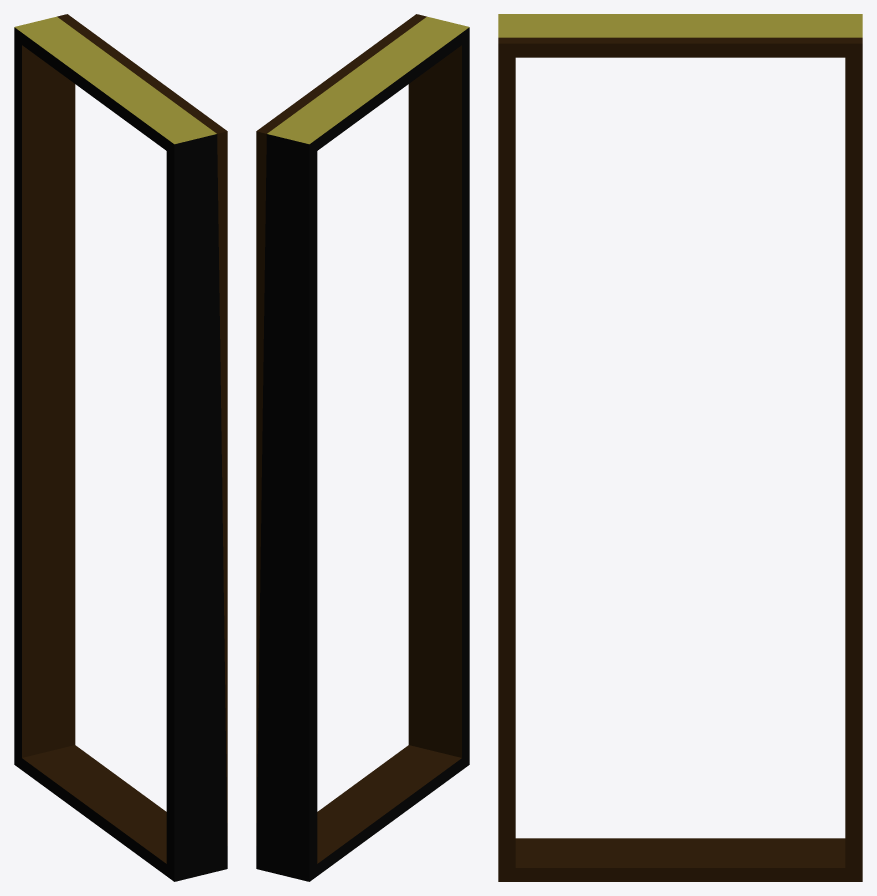
Rendered from SM_Window_Pane_L.fbx.
3 renders of one model, left to right at view 1: azimuth 30°, elevation 25°; view 2: azimuth 150°, elevation 25°; view 3: azimuth 270°, elevation 25°, orthographic. The views are drawn at different scales.
Visible parts, largest first — view 1: Window Pane L; view 2: Window Pane L; view 3: Window Pane L.
Boxes of the visible parts, x1,y1,x2,y2 form: Window Pane L: [14, 14, 227, 881]; Window Pane L: [256, 14, 469, 881]; Window Pane L: [498, 14, 862, 881].
Bounding box in the file's own units: 9.83 × 130 × 51.18.
